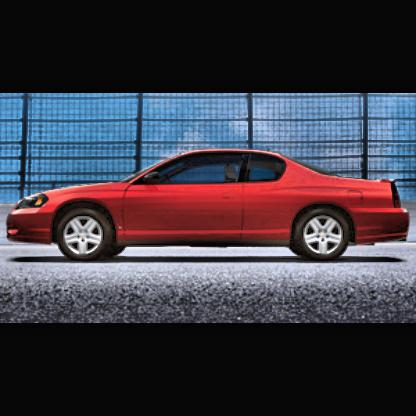Chevrolet Monte Carlo Coupe 2007: (6, 147, 416, 270)
